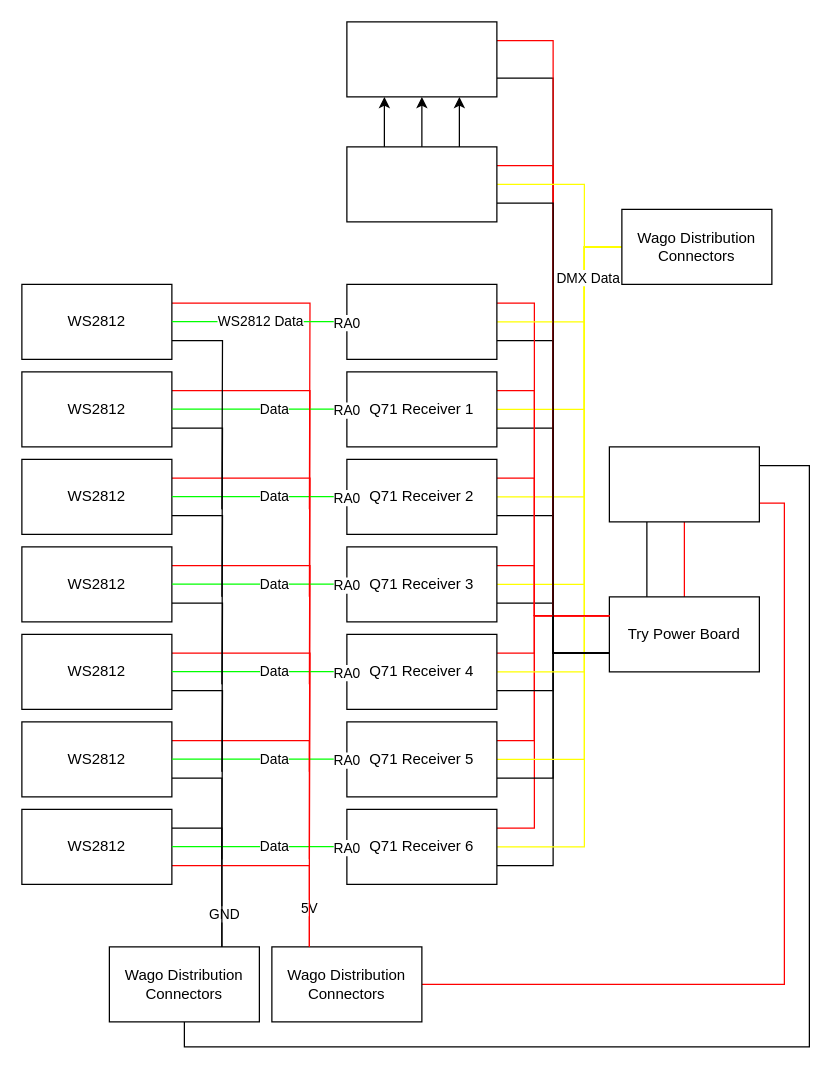
Image size: 833x1070. Some labels were removed from this diagram. Here are the shapes that lost their labels. From the top down, the centre of each, then its label:
pixel 421 59: MSGEQ7
pixel 421 184: Q71 Transmitter
pixel 421 321: Q71 Receiver 0
pixel 683 484: 5V Power supply
